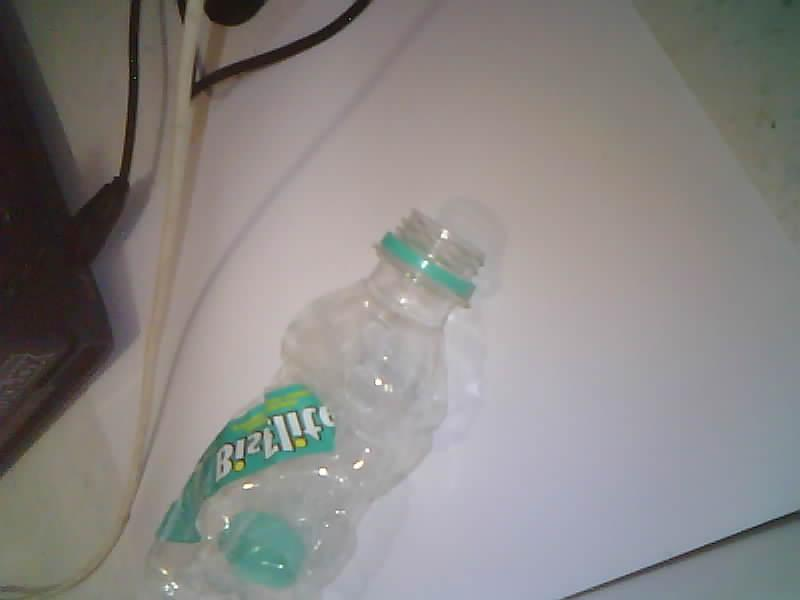non-biodegradable: (146, 212, 481, 599)
